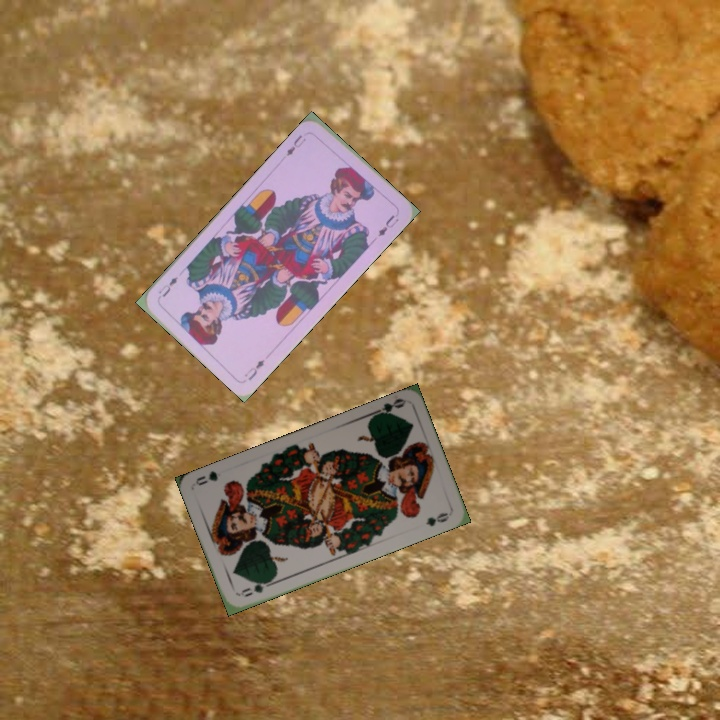EU: (282, 131, 309, 159), (240, 355, 267, 383)
GO: (368, 394, 407, 420), (236, 575, 275, 600)
